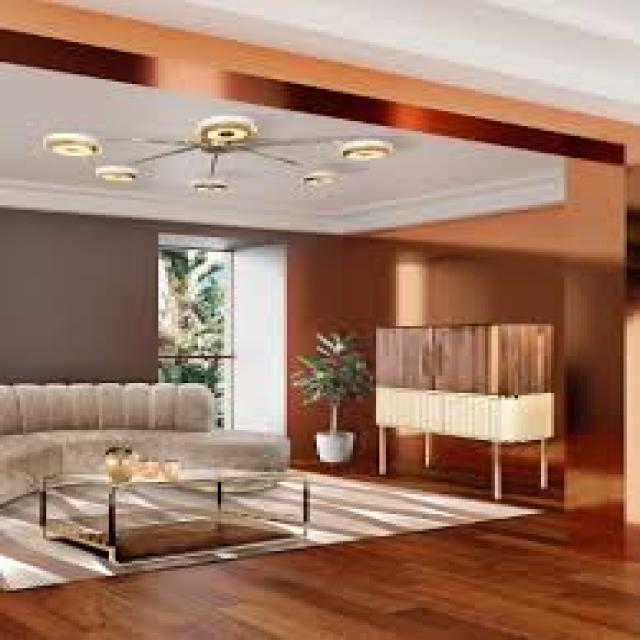Sofa: (0, 383, 301, 507)
Table: (35, 465, 322, 564)
